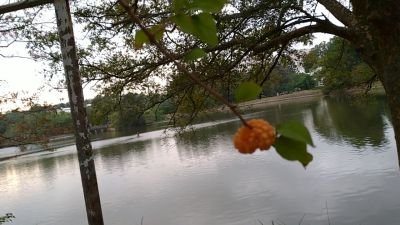eggs: (232, 117, 277, 155)
